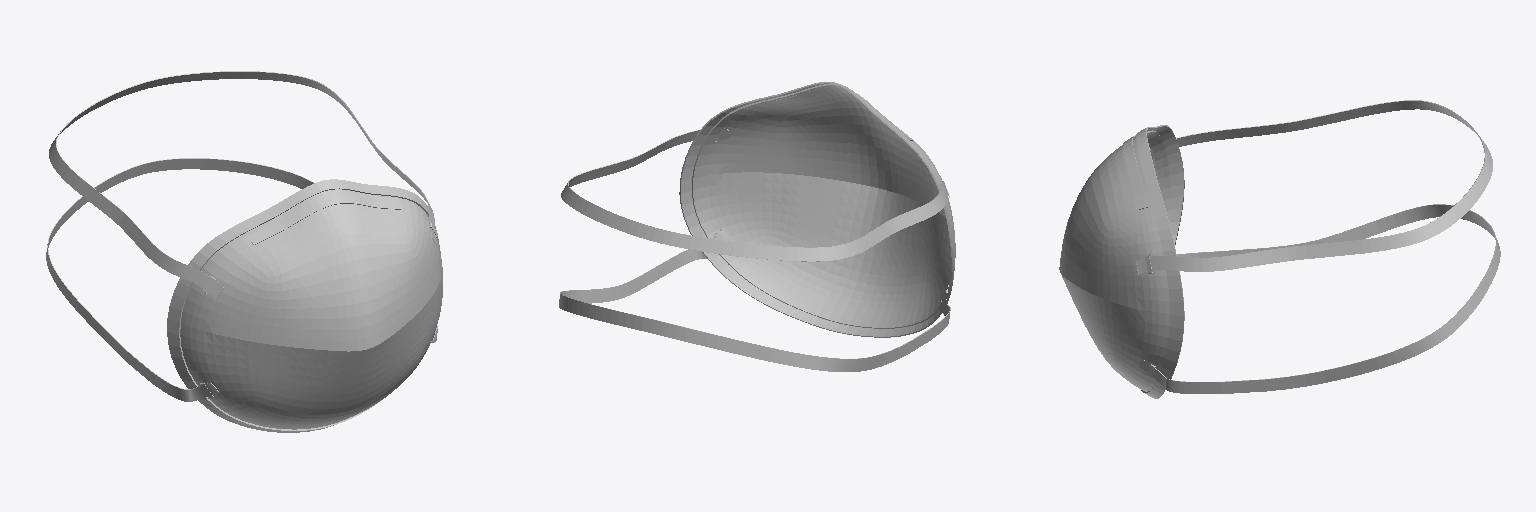
File: Mask_N95.obj
3 renders of one model, left to right at view 1: azimuth 30°, elevation 25°; view 2: azimuth 150°, elevation 25°; view 3: azimuth 270°, elevation 25°, orthographic.
Visible parts, largest first — view 1: Mask_N95_Body, Mask_N95_Strap_Up, Mask_N95_Strap_Down, Mask_N95_NoseClip; view 2: Mask_N95_Body, Mask_N95_Strap_Down, Mask_N95_Strap_Up; view 3: Mask_N95_Body, Mask_N95_Strap_Up, Mask_N95_Strap_Down, Mask_N95_NoseClip.
Boxes of the visible parts, box(x1,y1,x2,y2) form: Mask_N95_Body: box(167, 179, 442, 432); Mask_N95_Strap_Up: box(49, 71, 436, 299); Mask_N95_Strap_Down: box(46, 158, 437, 401); Mask_N95_NoseClip: box(246, 194, 400, 244); Mask_N95_Body: box(679, 82, 955, 337); Mask_N95_Strap_Down: box(559, 228, 950, 371); Mask_N95_Strap_Up: box(561, 129, 948, 261); Mask_N95_Body: box(1059, 125, 1184, 398); Mask_N95_Strap_Up: box(1136, 100, 1492, 274); Mask_N95_Strap_Down: box(1139, 204, 1500, 393); Mask_N95_NoseClip: box(1123, 135, 1147, 209).
Size of the model in its own units: 68.69 by 57.54 by 92.43.